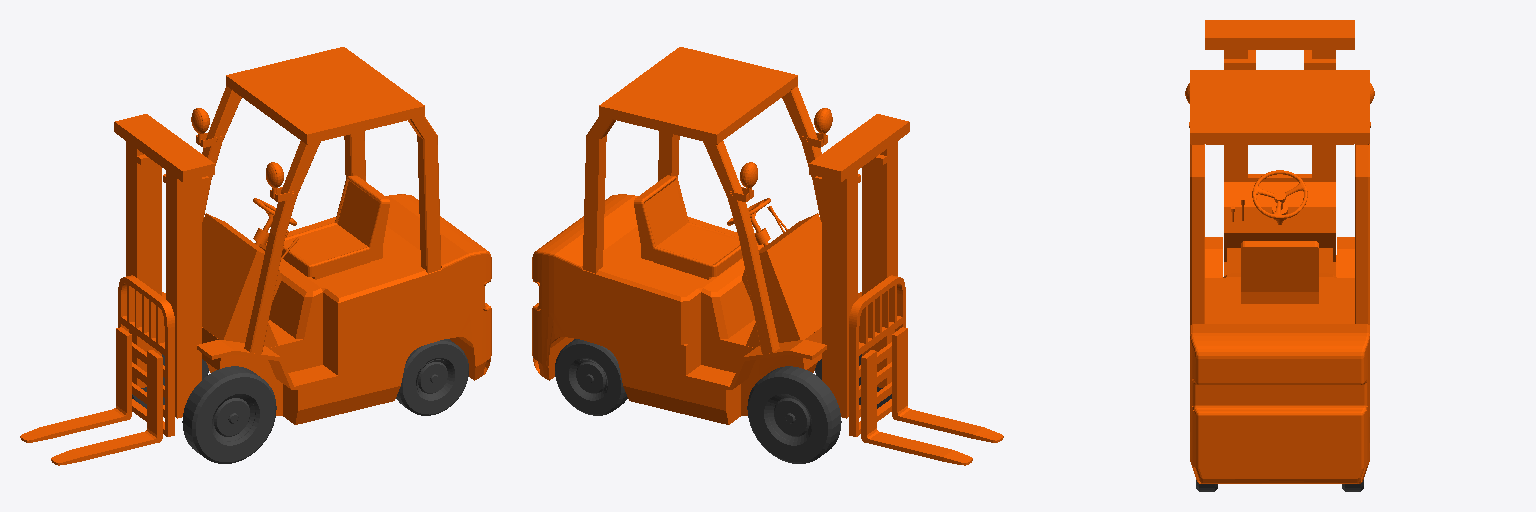
The robot description file, URDF, robot "forklift":
<robot name="forklift">
    <origin xyz="0 0 0" rpy="0 0 0"/>
    <scale>1.2 1.2 1.2</scale>
    <namespace>/forklift</namespace>
    <static>true</static>

<material name="black">
    <color rgba="0.0 0.0 0.0 1.0"/>
</material>

<material name="dark">
  <color rgba="0.3 0.3 0.3 1.0"/>
</material>

<material name="light_black">
  <color rgba="0.4 0.4 0.4 1.0"/>
</material>

<material name="blue">
  <color rgba="0.0 0.0 0.8 1.0"/>
</material>

<material name="green">
  <color rgba="0.0 0.8 0.0 1.0"/>
</material>

<material name="grey">
  <color rgba="0.5 0.5 0.5 1.0"/>
</material>

<material name="orange">
  <color rgba="1.0 0.4235 0.0392 1.0"/>
</material>

<material name="brown">
  <color rgba="0.8706 0.8118 0.7647 1.0"/>
</material>

<material name="red">
  <color rgba="0.8 0.0 0.0 1.0"/>
</material>

<material name="white">
  <color rgba="1.0 1.0 1.0 1.0"/>
</material>

<link name="forklift_chassis">
    <visual>
      <origin xyz="0 0 0.0" rpy="0 0 0"/>
      <geometry>
        <mesh filename="package://myrobot/models/forklift/meshes/forklift_chassis.stl" scale="0.01 0.01 0.01"/>
      </geometry>
      <material name="orange"/>
    </visual>

    <collision>
      <geometry>
        <mesh filename="package://myrobot/models/forklift/meshes/forklift_chassis.stl" scale="0.01 0.01 0.01"/>
      </geometry>
    </collision>

    <inertial>
      <mass value="0.114" />
      <origin xyz="0 0 0" />
      <inertia ixx="0.001" ixy="0.0" ixz="0.0" iyy="0.001" iyz="0.0" izz="0.001" />
    </inertial>
  </link>

  <link name="left_wheel">
    <visual>
      <origin xyz="0 0 0.0" rpy="0 0 0"/>
      <geometry>
        <mesh filename="package://myrobot/models/forklift/meshes/forklift_left_wheel.stl" scale="0.01 0.01 0.01"/>
      </geometry>
      <material name="dark"/>
    </visual>

    <collision>
      <geometry>
        <mesh filename="package://myrobot/models/forklift/meshes/forklift_left_wheel.stl" scale="0.01 0.01 0.01"/>
      </geometry>
    </collision>

    <inertial>
      <mass value="0.114" />
      <origin xyz="0 0 0" />
      <inertia ixx="0.001" ixy="0.0" ixz="0.0" iyy="0.001" iyz="0.0" izz="0.001" />
    </inertial>
  </link>

  <link name="right_wheel">
    <visual>
      <origin xyz="0 0 0.0" rpy="0 0 0"/>
      <geometry>
        <mesh filename="package://myrobot/models/forklift/meshes/forklift_right_wheel.stl" scale="0.01 0.01 0.01"/>
      </geometry>
      <material name="dark"/>
    </visual>

    <collision>
      <geometry>
        <mesh filename="package://myrobot/models/forklift/meshes/forklift_right_wheel.stl" scale="0.01 0.01 0.01"/>
      </geometry>
    </collision>

    <inertial>
      <mass value="0.114" />
      <origin xyz="0 0 0" />
      <inertia ixx="0.001" ixy="0.0" ixz="0.0" iyy="0.001" iyz="0.0" izz="0.001" />
    </inertial>
  </link>

  <link name="back_wheel">
    <visual>
      <origin xyz="0 0 0.0" rpy="0 0 0"/>
      <geometry>
        <mesh filename="package://myrobot/models/forklift/meshes/forklift_back_wheel.stl" scale="0.01 0.01 0.01"/>
      </geometry>
      <material name="dark"/>
    </visual>

    <collision>
      <geometry>
        <mesh filename="package://myrobot/models/forklift/meshes/forklift_back_wheel.stl" scale="0.01 0.01 0.01"/>
      </geometry>
    </collision>

    <inertial>
      <mass value="0.114" />
      <origin xyz="0 0 0" />
      <inertia ixx="0.001" ixy="0.0" ixz="0.0" iyy="0.001" iyz="0.0" izz="0.001" />
    </inertial>
  </link>

  <joint name="right_wheel_joint" type="continuous">
    <origin xyz="0 0 0" />
    <axis xyz="1 0 0"/>
    <parent link="forklift_chassis"/>
    <child link="right_wheel"/>
  </joint>

  <joint name="left_wheel_joint" type="continuous">
    <origin xyz="0 0 0" />
    <axis xyz="1 0 0"/>
    <parent link="forklift_chassis"/>
    <child link="left_wheel"/>
  </joint>

  <joint name="back_wheel_joint" type="continuous">
    <origin xyz="0 0 0" />
    <axis xyz="1 0 0"/>
    <parent link="forklift_chassis"/>
    <child link="back_wheel"/>
  </joint>

</robot>

--- Render facts (derived) ---
3 views of the same robot in one strip: view 1: azimuth 30°, elevation 25°; view 2: azimuth 150°, elevation 25°; view 3: azimuth 270°, elevation 25° (orthographic).
Robot: forklift — 4 links, 3 joints (3 continuous); root link forklift_chassis; default pose: every joint at zero.
Links seen in each view (by area): view 1: forklift_chassis, left_wheel, back_wheel; view 2: forklift_chassis, right_wheel, back_wheel; view 3: forklift_chassis.
Boxes of the visible links, x1,y1,x2,y2 form: forklift_chassis: (20, 47, 491, 465); left_wheel: (182, 366, 276, 463); back_wheel: (396, 339, 468, 415); forklift_chassis: (532, 47, 1003, 465); right_wheel: (747, 366, 841, 463); back_wheel: (555, 339, 627, 415); forklift_chassis: (1185, 20, 1374, 483).
Bounding box of the posed robot: 1.72 × 0.6137 × 1.24 m (x, y, z).
4 mesh visuals loaded from 4 distinct referenced files (4 binary STL).